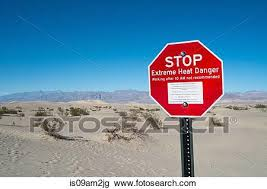Stop: (144, 43, 251, 123)
